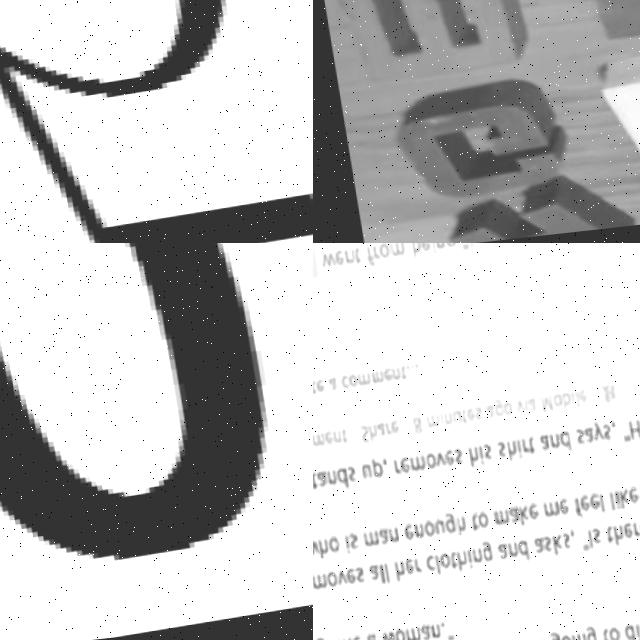5: (0, 0, 313, 243)
8: (404, 422, 415, 441)
A: (484, 549, 497, 568), (358, 568, 370, 586), (367, 533, 379, 551), (522, 545, 533, 563), (498, 514, 509, 532), (576, 435, 587, 453), (321, 380, 333, 396), (406, 627, 420, 640), (531, 442, 541, 460), (631, 494, 640, 513), (478, 410, 488, 427), (368, 427, 379, 442), (521, 406, 531, 420), (313, 472, 319, 492), (483, 243, 495, 249), (352, 635, 366, 640)
B: (407, 243, 419, 266), (555, 402, 565, 420)
C: (415, 560, 426, 578), (334, 379, 343, 394)
D: (507, 548, 519, 571), (328, 471, 340, 494), (550, 440, 562, 462), (611, 634, 623, 640)
E: (618, 497, 629, 517), (334, 571, 346, 589), (392, 529, 404, 547), (517, 512, 529, 529), (390, 463, 402, 480), (393, 563, 404, 581), (548, 507, 559, 525), (579, 503, 590, 521), (435, 456, 446, 474), (612, 533, 623, 550), (569, 504, 580, 521), (330, 254, 341, 271), (416, 243, 428, 258), (381, 425, 392, 441), (629, 530, 639, 547), (630, 428, 640, 445), (458, 414, 469, 429), (315, 434, 325, 449), (376, 373, 386, 388), (571, 399, 581, 413), (313, 382, 320, 397), (626, 631, 637, 640)
F: (564, 506, 573, 528), (362, 251, 371, 271)
G: (374, 82, 559, 209), (470, 546, 482, 569), (434, 518, 446, 541), (486, 406, 497, 426), (440, 243, 451, 255), (572, 633, 584, 640)
H: (574, 38, 640, 180), (620, 430, 634, 451), (445, 557, 457, 580), (446, 522, 458, 545), (460, 453, 471, 475), (497, 448, 509, 468), (383, 568, 395, 587), (603, 536, 613, 556), (361, 429, 371, 448), (313, 542, 319, 563)
I: (509, 446, 515, 469), (334, 538, 340, 559), (604, 500, 610, 520), (470, 453, 476, 473), (426, 243, 432, 262), (431, 419, 437, 436), (457, 557, 462, 576), (564, 401, 569, 419), (517, 408, 522, 425), (577, 541, 582, 558), (464, 243, 470, 256), (621, 633, 627, 640)
K: (508, 513, 519, 536), (610, 499, 620, 522), (542, 544, 553, 564)
L: (599, 501, 605, 524), (368, 568, 374, 590), (373, 568, 379, 590), (424, 560, 430, 582), (589, 504, 595, 526), (567, 400, 573, 419), (515, 243, 521, 249)
M: (324, 0, 516, 90), (400, 461, 419, 479), (484, 515, 501, 534), (532, 402, 547, 422), (353, 534, 369, 552), (533, 509, 549, 527), (386, 245, 402, 263), (363, 374, 379, 390), (418, 419, 433, 435), (350, 376, 366, 391), (392, 629, 409, 640), (313, 434, 317, 451)
N: (402, 528, 414, 545), (378, 530, 389, 548), (317, 473, 328, 490), (340, 254, 351, 271), (540, 442, 551, 458), (461, 556, 472, 571), (497, 551, 508, 566), (436, 418, 447, 433), (416, 627, 428, 640), (384, 372, 395, 386), (324, 433, 334, 448), (430, 243, 441, 256), (468, 243, 479, 252)
O: (415, 458, 429, 477), (317, 538, 330, 557), (467, 518, 480, 536), (315, 574, 327, 592), (375, 247, 387, 265), (414, 526, 425, 544), (340, 378, 352, 393), (429, 559, 440, 575), (495, 409, 506, 424), (545, 402, 556, 416), (382, 633, 393, 640), (594, 635, 608, 640)
P: (364, 462, 376, 483)
R: (402, 563, 413, 581), (622, 531, 630, 549), (385, 463, 393, 480), (369, 250, 377, 267), (376, 426, 385, 440), (513, 448, 521, 462), (498, 243, 507, 248)
S: (343, 569, 354, 589), (351, 429, 362, 448), (474, 449, 484, 469), (551, 541, 562, 559), (338, 536, 349, 554), (337, 469, 348, 487), (445, 454, 456, 472), (489, 447, 499, 466), (582, 538, 592, 556), (567, 437, 577, 455), (594, 433, 604, 451), (532, 544, 542, 561), (467, 412, 475, 429)
T: (519, 445, 528, 464), (460, 520, 469, 538), (439, 558, 447, 576), (595, 536, 603, 554), (350, 252, 358, 270), (393, 370, 401, 387), (332, 433, 340, 447), (453, 416, 460, 430), (588, 635, 597, 640)
U: (352, 468, 364, 484), (424, 525, 435, 542), (445, 417, 455, 431)
V: (325, 574, 337, 590), (426, 458, 437, 474), (508, 408, 518, 422)
W: (317, 255, 333, 273), (366, 634, 383, 640)
Y: (584, 431, 596, 452)
